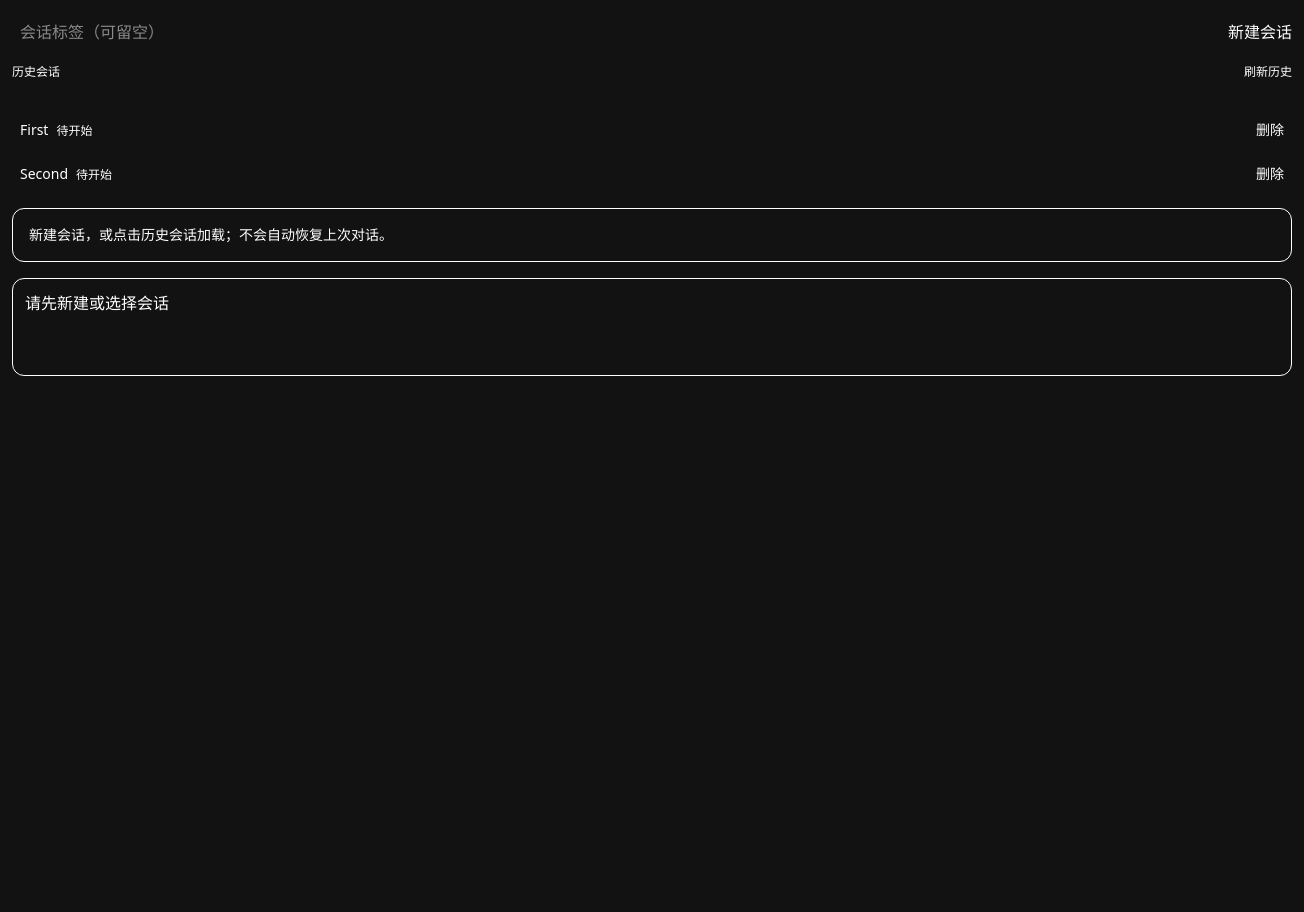
creates and selects a Session; failed deletion keeps it and retry clears the selection
Expected: the button "First待开始" is shown, [20, 120, 1248, 140]
Type "New" into the field labelled "会话标签".
click(616, 32); type("New")  # box [12, 12, 1220, 52]
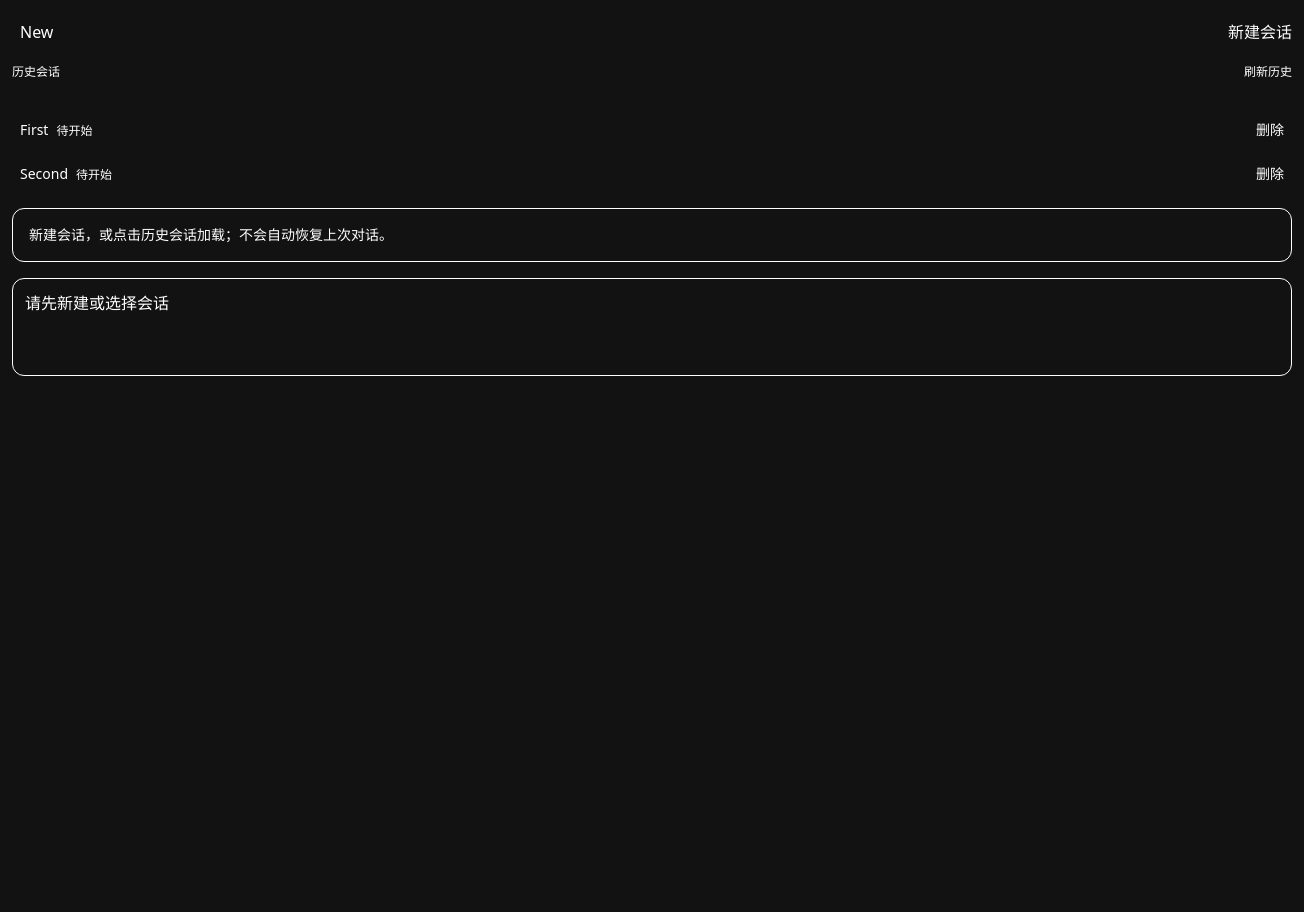
Click the button "新建会话".
click(1260, 32)  # box [1228, 12, 1292, 52]
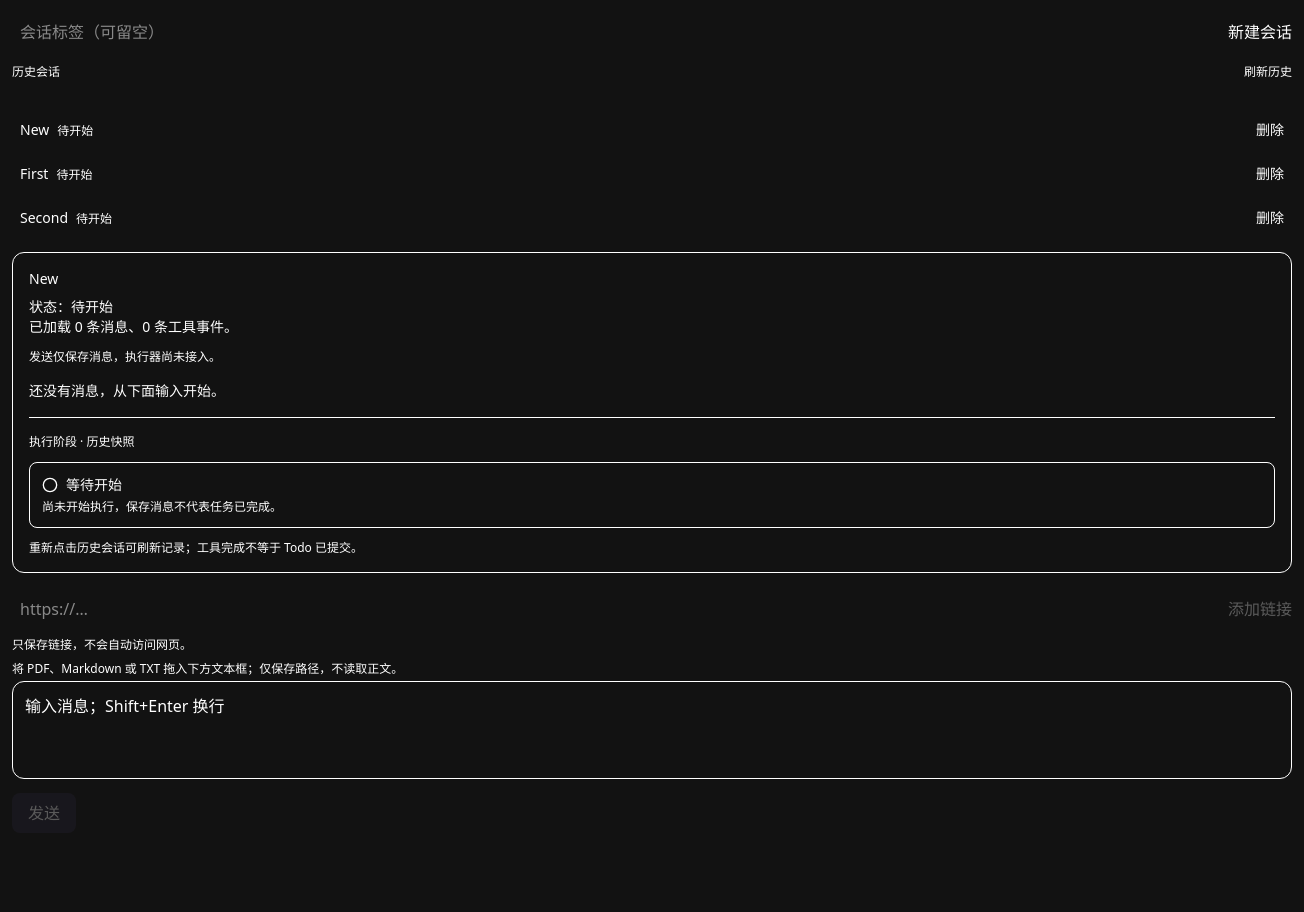
Expected: the heading "New" is shown, [29, 269, 58, 288]
Click the button with aria-label "删除会话 New".
click(1270, 130)  # box [1256, 120, 1284, 140]
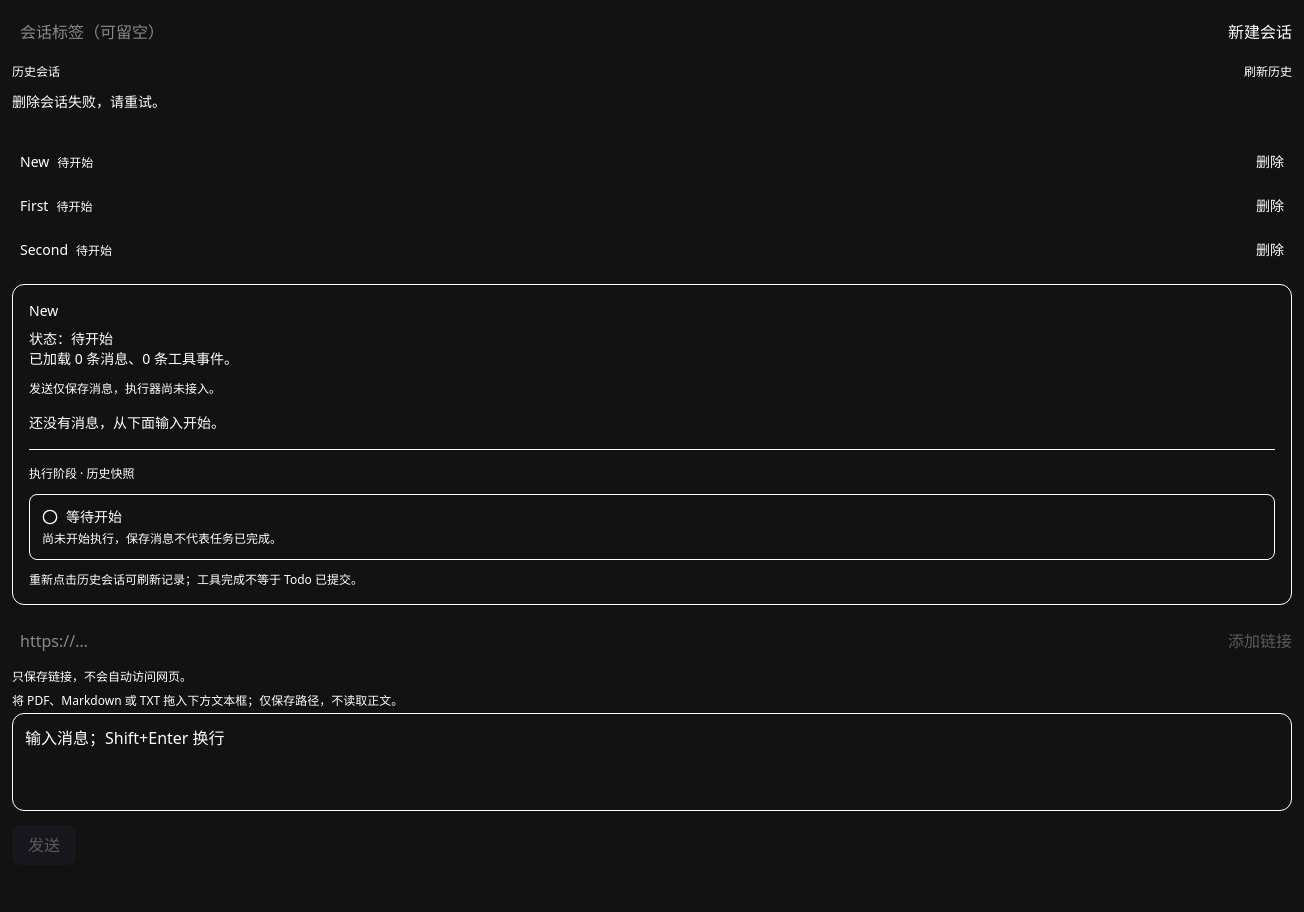
Expected: the heading "New" is shown, [29, 301, 58, 320]
Expected: the message "删除会话失败，请重试。" is shown, [12, 92, 166, 111]
Click the button with aria-label "删除会话 New".
click(1270, 162)  # box [1256, 152, 1284, 172]
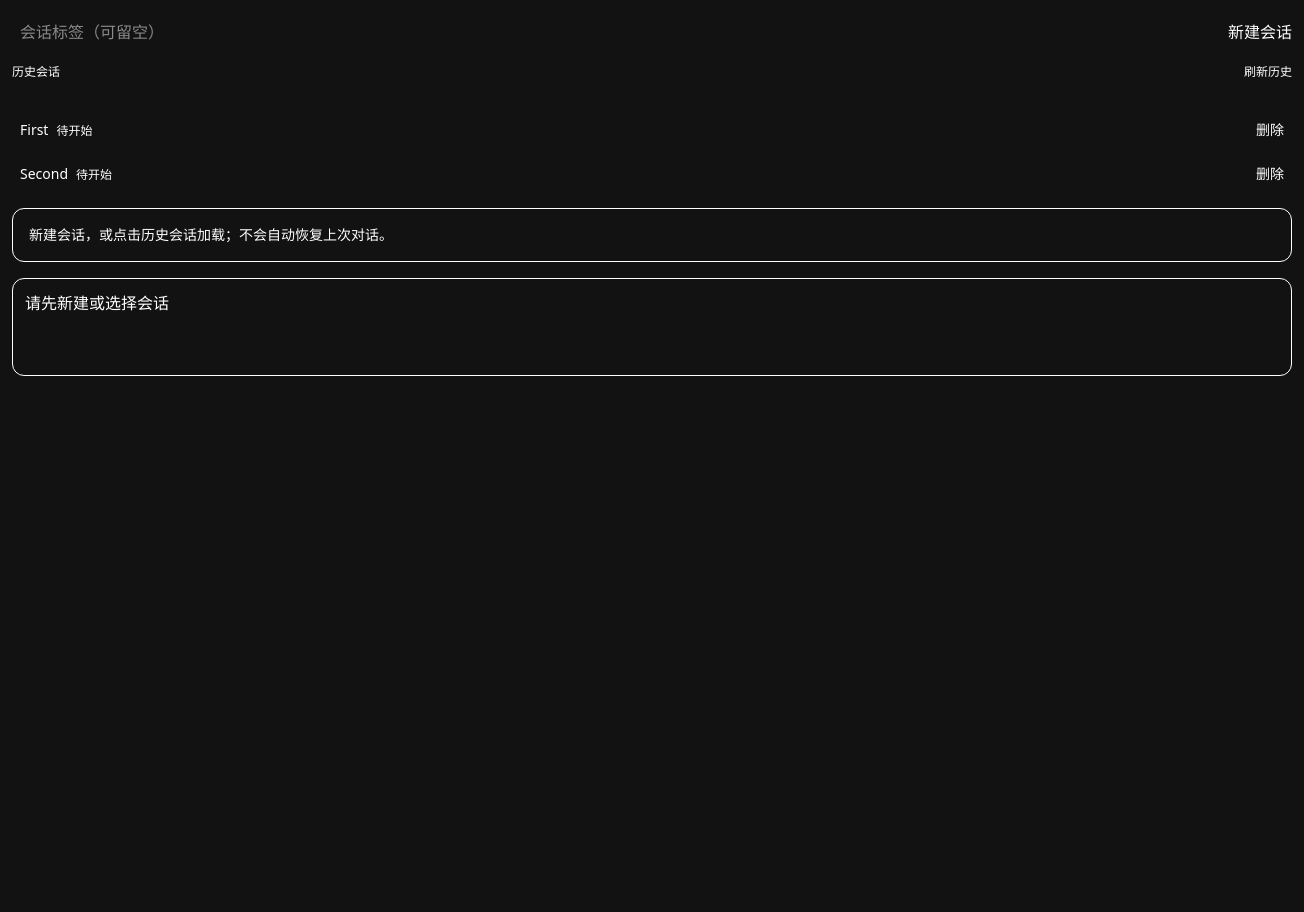
Expected: the button "First待开始" is shown, [20, 120, 1248, 140]
Expected: the heading "New" is gone
